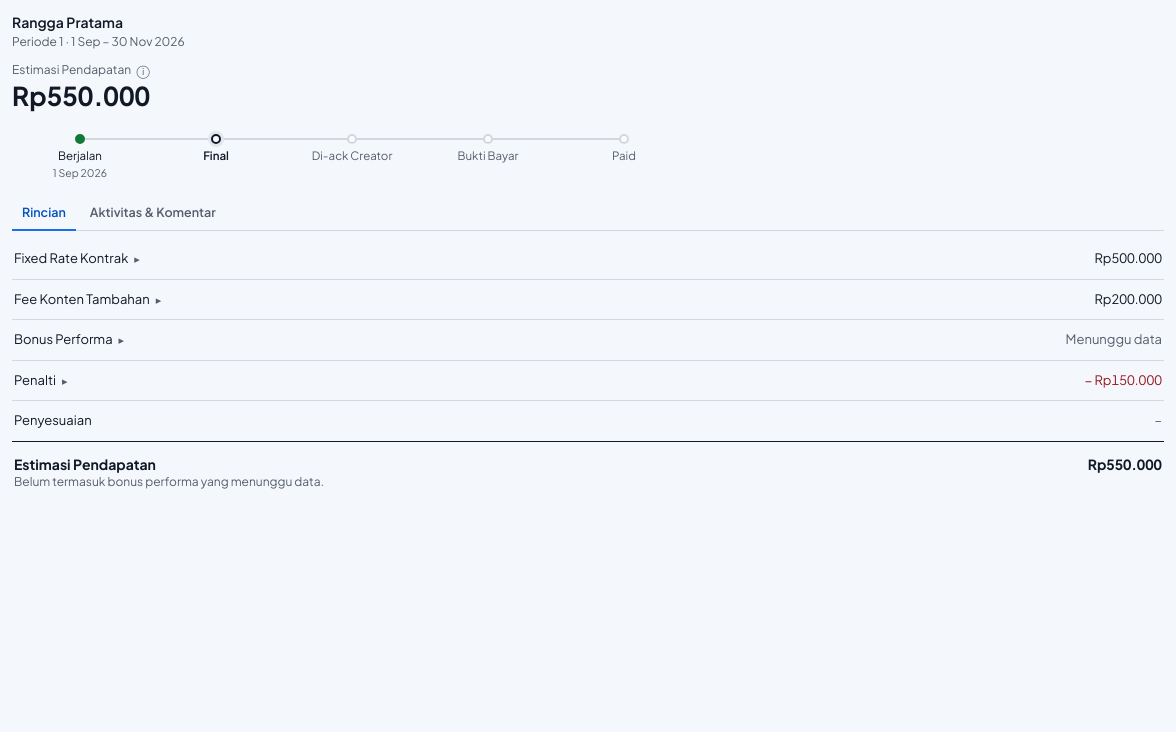
Test: CreatorInvoiceView › the parts › keeps a part's lines folded until it is opened
This screenshot has width=1176, height=732.
Expected: the text "Promo akhir bulan" is not shown
What coordinates should you click on to do the following:
click the button "Fee Konten Tambahan ▸ Rp200.000"
I would click on:
 (82, 299)
Its box is [12,280,1164,319].
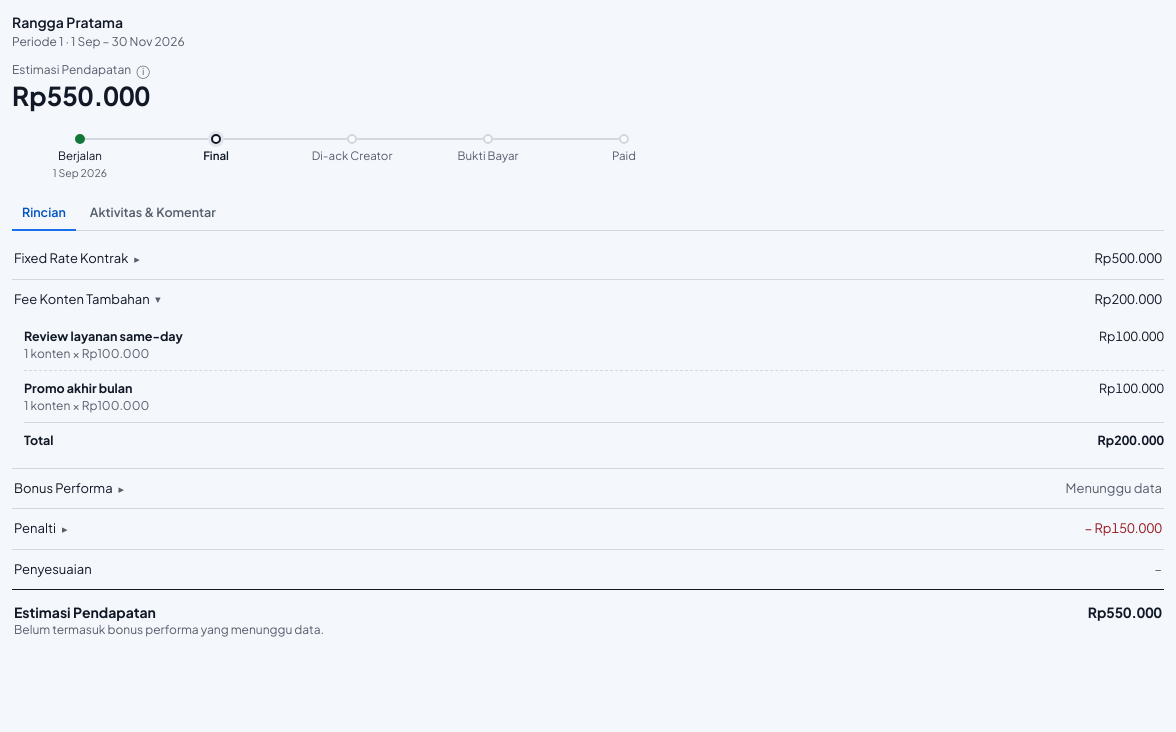
Result: the button "Fee Konten Tambahan ▸ Rp200.000" is expanded at [12,280,1164,319]
Result: the list that starts with "Review layanan same-day" shows "Promo akhir bulan" at [24,379,132,398]
